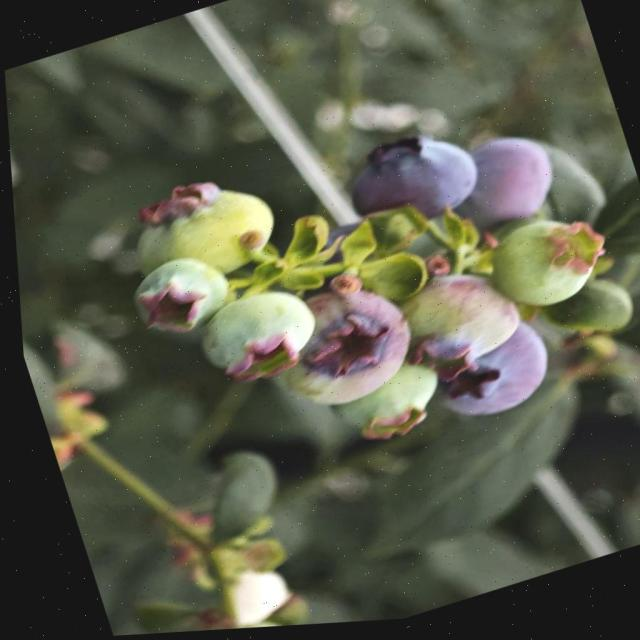RipeBlueBerry: (330, 127, 488, 246)
Semi-RipeBlueBerry: (417, 324, 555, 436), (449, 130, 559, 240)
UnripeBlueBerry: (256, 280, 424, 426), (113, 165, 284, 301), (182, 282, 322, 396), (476, 212, 612, 328)
